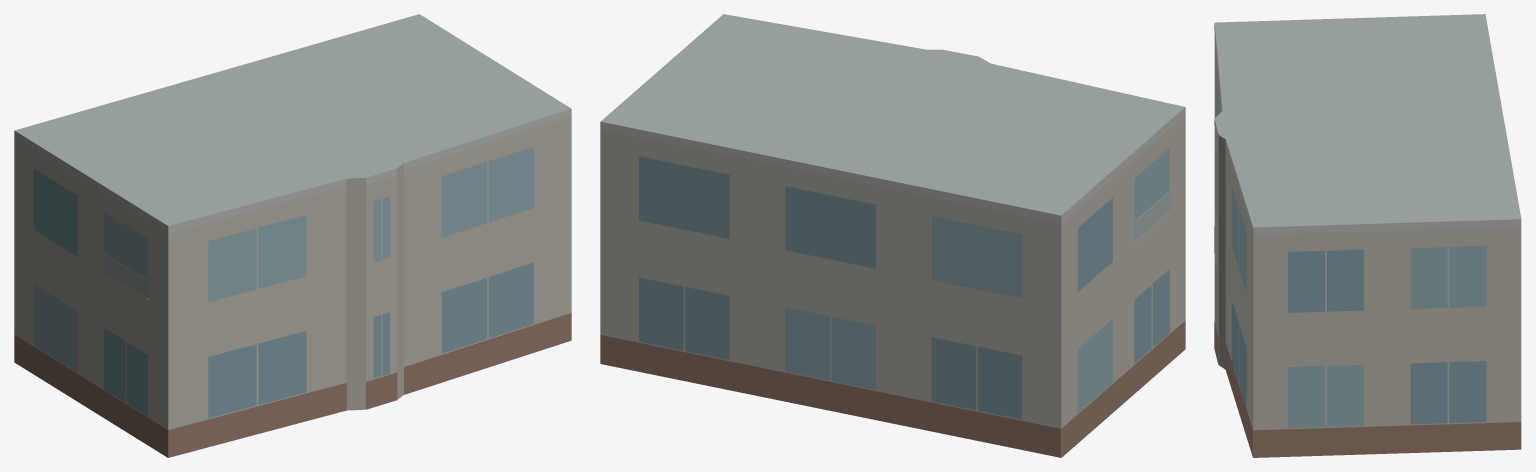
Rendered from survey-upis-32621806.glb.
The picture shows the model from 3 angles, left to right: view 1: azimuth 30°, elevation 25°; view 2: azimuth 150°, elevation 25°; view 3: azimuth 270°, elevation 25°; orthographic projection. The views are drawn at different scales.
Parts seen in each view (by area): view 1: survey-upis-32621806.tmp; view 2: survey-upis-32621806.tmp; view 3: survey-upis-32621806.tmp.
Part boxes in pixels (bbox=[...]): survey-upis-32621806.tmp: bbox=[14, 14, 571, 457]; survey-upis-32621806.tmp: bbox=[600, 14, 1185, 457]; survey-upis-32621806.tmp: bbox=[1214, 14, 1521, 457].
Size of the model in its own units: 15.31 by 7.7 by 9.31.
